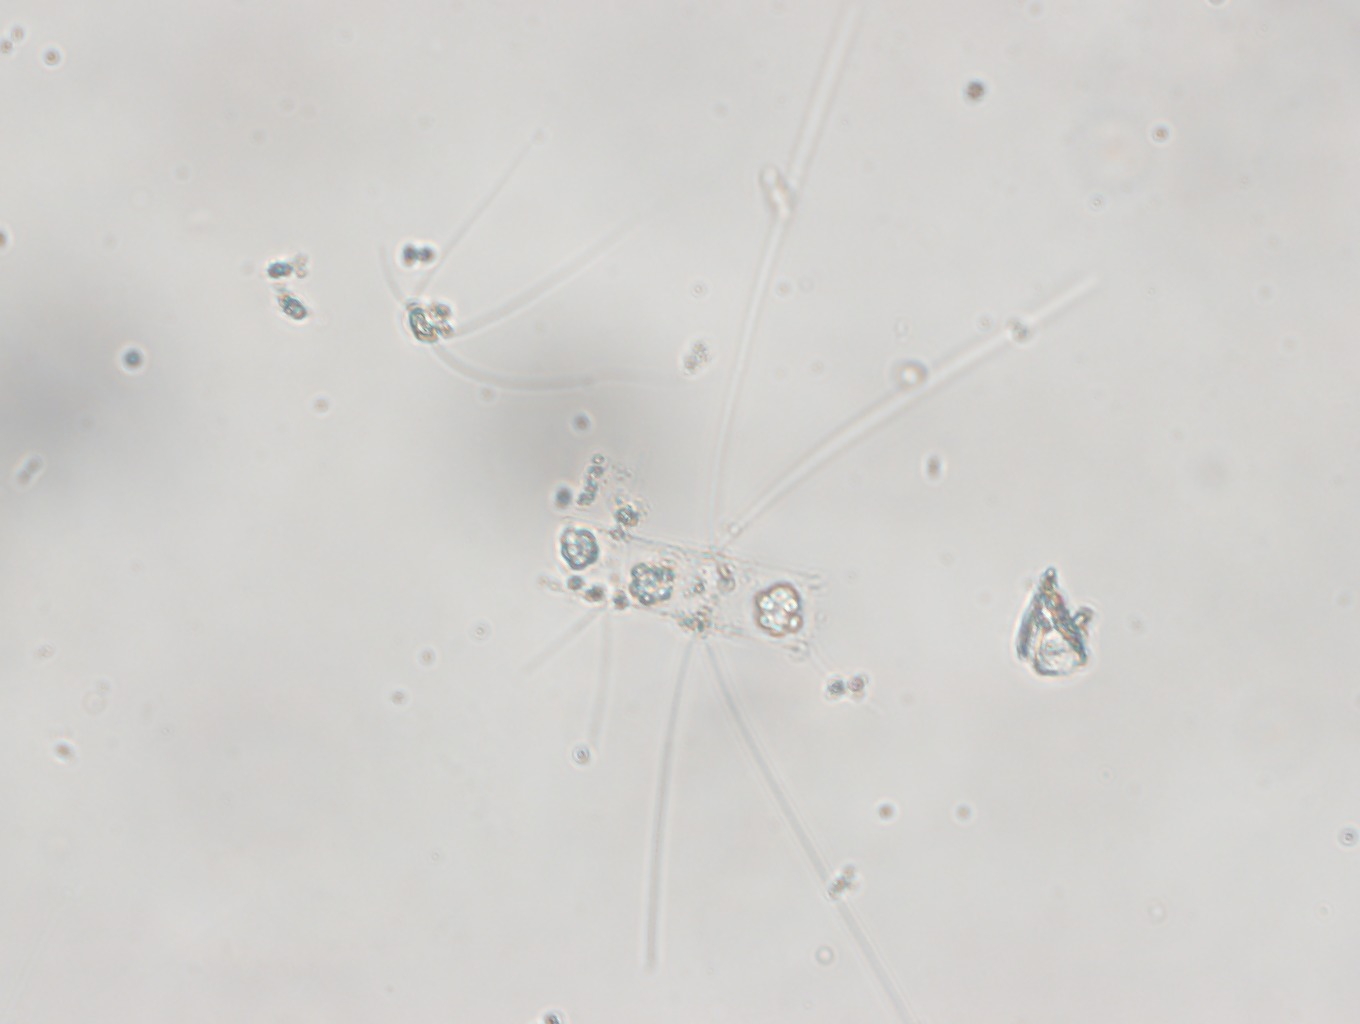chaetoceros: (515, 1, 1096, 1024), (372, 133, 665, 392)
